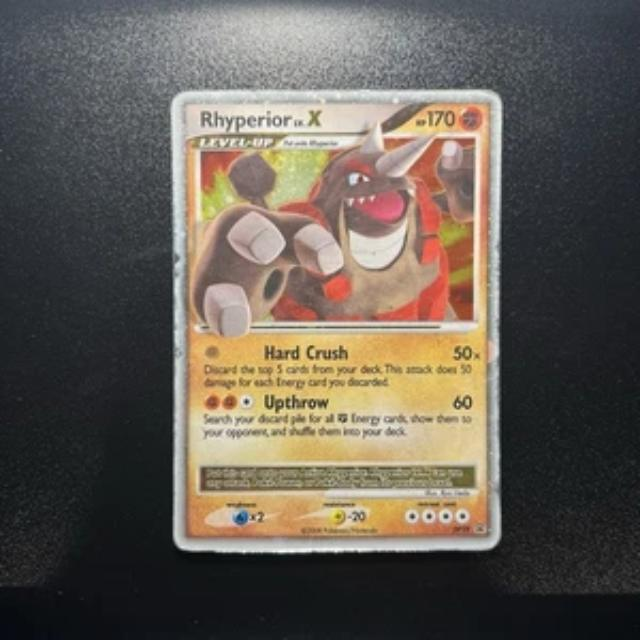Card: (165, 84, 509, 558)
Name: (195, 104, 325, 135)
